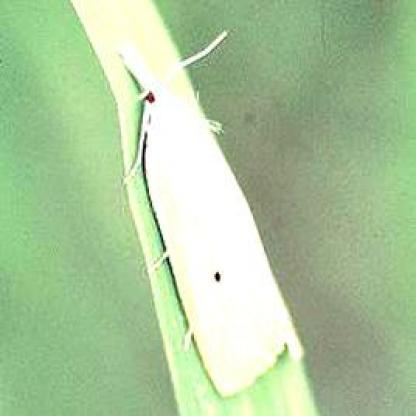stem-borer: (114, 31, 305, 400)
